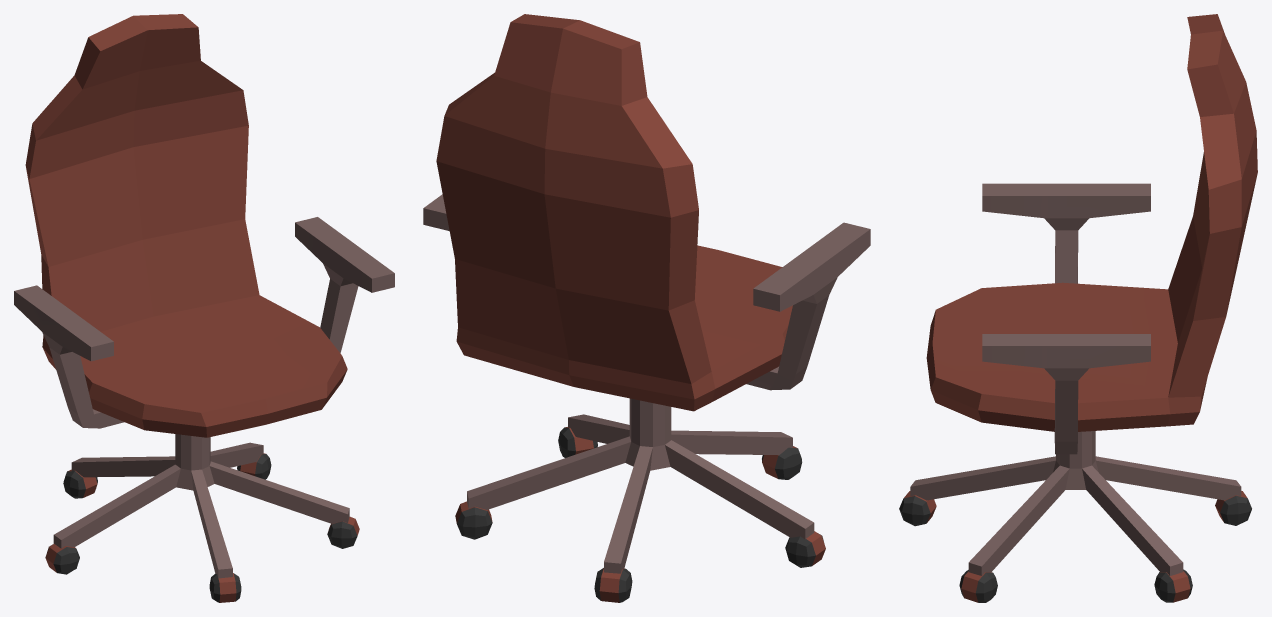
The model's file is gaming_chair.glb.
3 renders of one model, left to right at view 1: azimuth 30°, elevation 25°; view 2: azimuth 150°, elevation 25°; view 3: azimuth 270°, elevation 25°, orthographic. The views are drawn at different scales.
Parts seen in each view (by area): view 1: Gaming_Chair; view 2: Gaming_Chair; view 3: Gaming_Chair.
Boxes of the visible parts, bbox=[...] form: Gaming_Chair: bbox=[14, 14, 394, 602]; Gaming_Chair: bbox=[423, 14, 870, 602]; Gaming_Chair: bbox=[899, 14, 1257, 602].
Size of the model in its own units: 0.9204 by 1.37 by 0.8582.
Materials: 1 (1 with a texture image).
